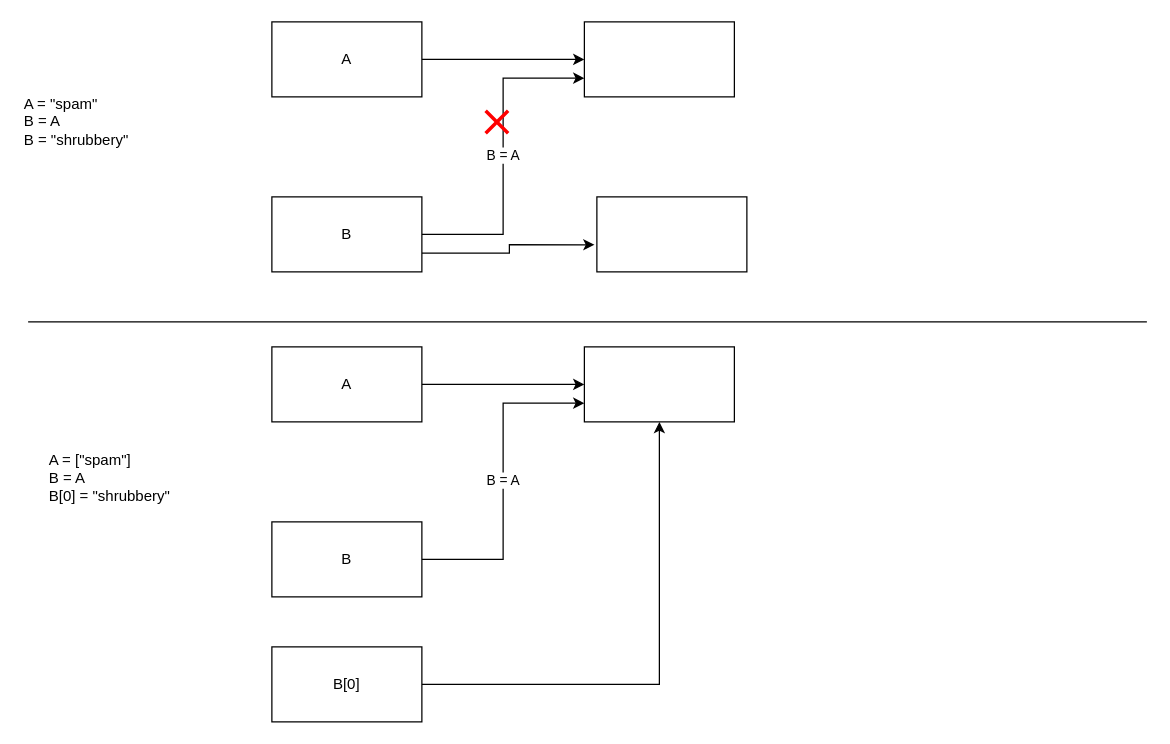
Image size: 1170x744. Some labels were removed from this diagram. Here are the shapes that lost their labels. From the top down, the box of each, then its label:
(583, 21, 734, 97): "spam"
(596, 196, 747, 272): "shrubbery"
(583, 346, 734, 422): [ "spam" "shrubbery"]
